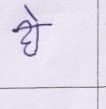e_matra: (24, 5, 40, 22)
